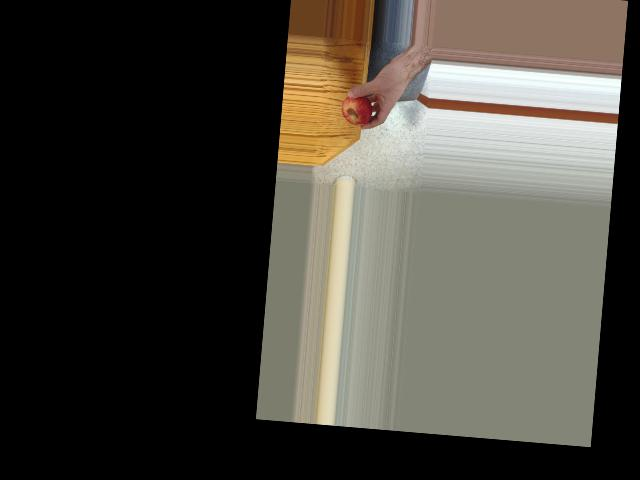apple: (338, 89, 376, 127)
